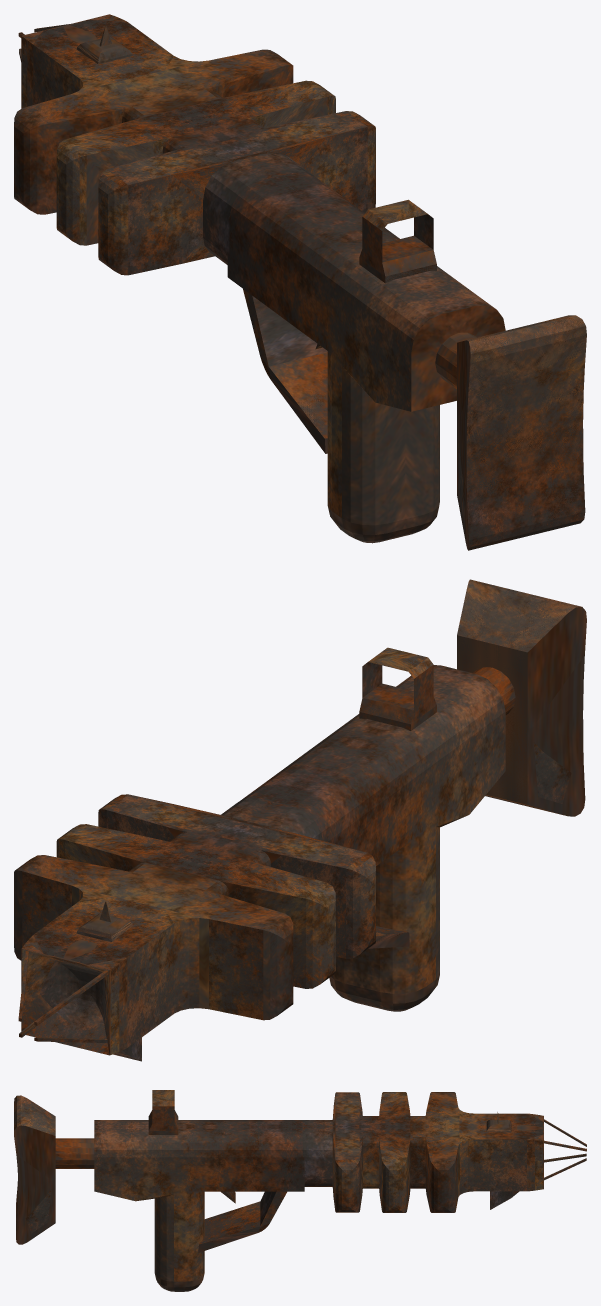
File: laser rifle2.fbx
3 renders of one model, top to bottom at view 1: azimuth 30°, elevation 25°; view 2: azimuth 150°, elevation 25°; view 3: azimuth 270°, elevation 25°, orthographic. The views are drawn at different scales.
Visible parts, largest first — view 1: Cube; view 2: Cube; view 3: Cube.
Part boxes in pixels (bbox=[...]): Cube: bbox=[14, 14, 586, 550]; Cube: bbox=[14, 579, 586, 1061]; Cube: bbox=[14, 1090, 586, 1291].
Bounding box in the file's own units: 579 × 670 × 1844.
1 material, 1 textured.
